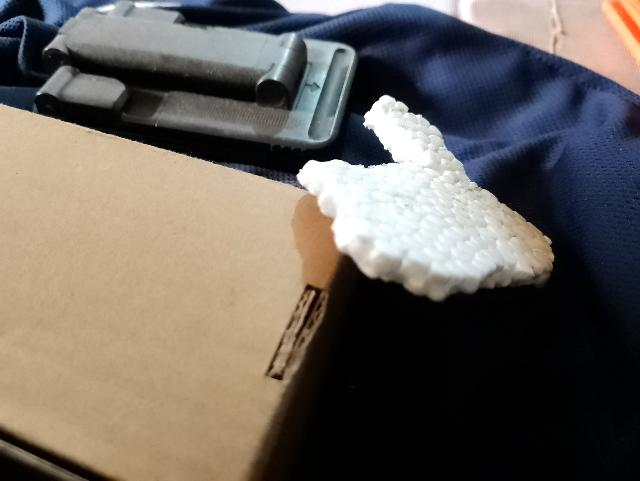cocksheet: (318, 99, 559, 280)
